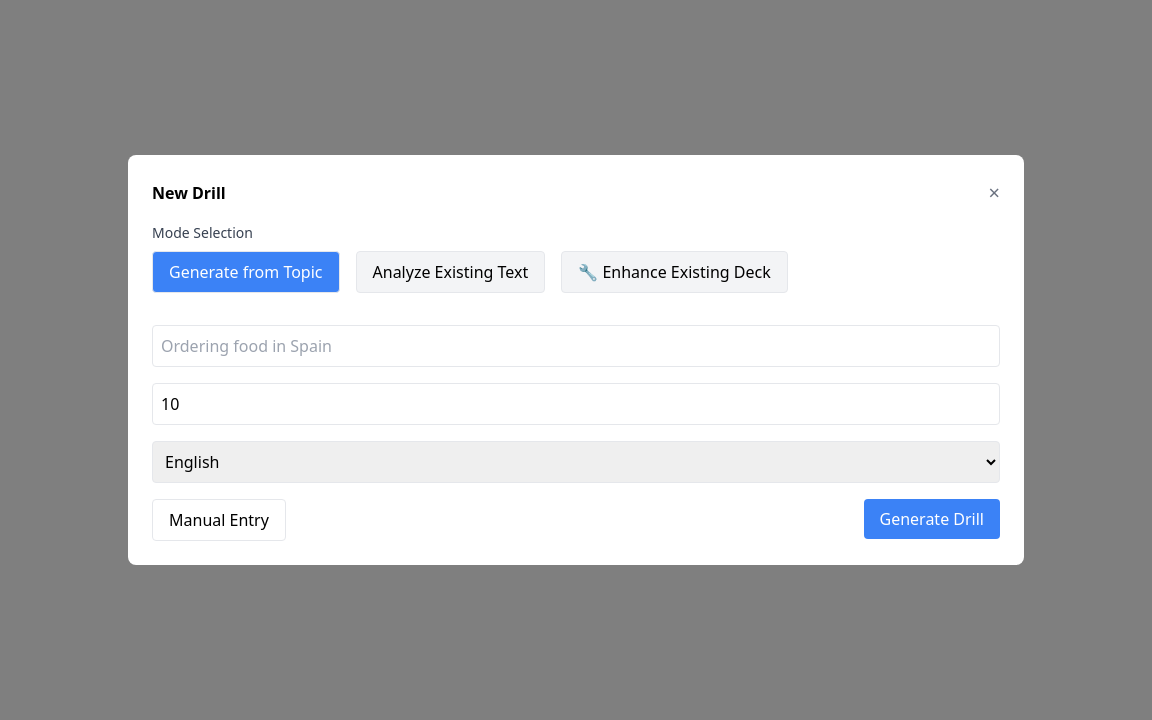
Scenario: Wizard Flow Guard (PN-063) › Free Tier Flow › shows paywall modal when settings.isPro is false
This screenshot has width=1152, height=720.
Type "Test topic" into the field with placeholder "Ordering food in Spain" at (576, 346), box 152,325 -> 1000,367
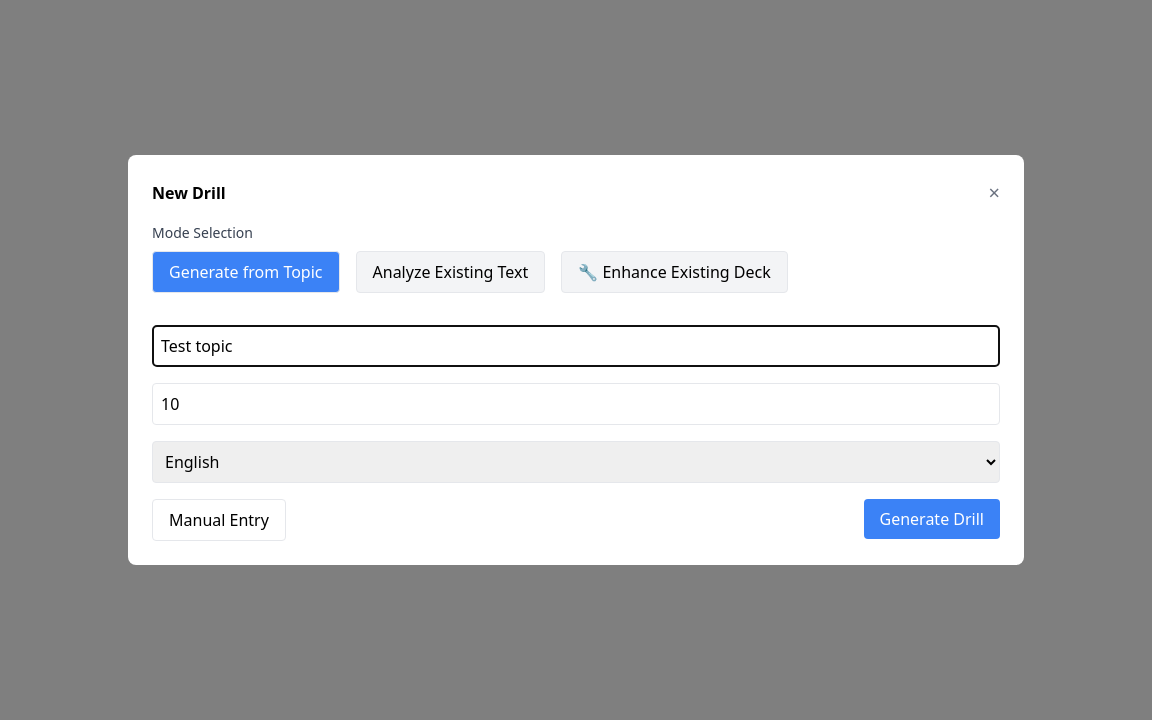
Click the button "Generate Drill" at (932, 519), box 864,499 -> 1000,539
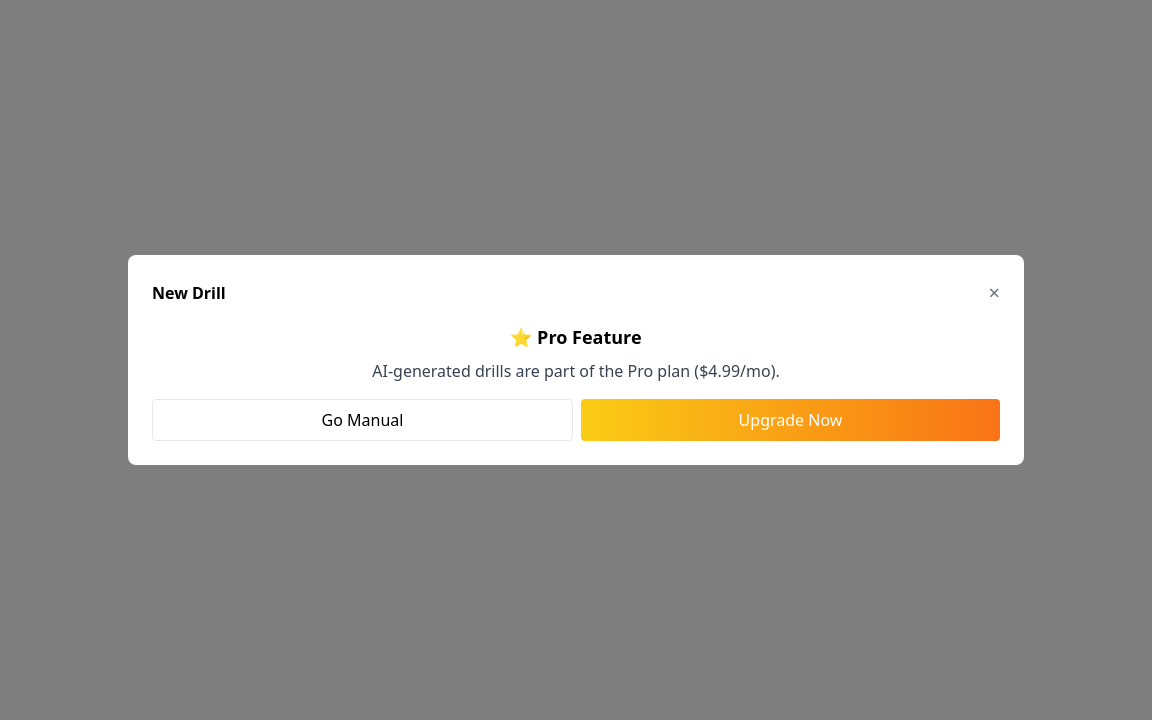
Result: the heading "⭐ Pro Feature" is shown at 510,325 -> 642,349
Result: the text "AI-generated drills are part of the Pro plan ($4.99/mo)." is shown at 372,360 -> 780,382
Result: the button "Go Manual" is shown at 152,399 -> 573,441
